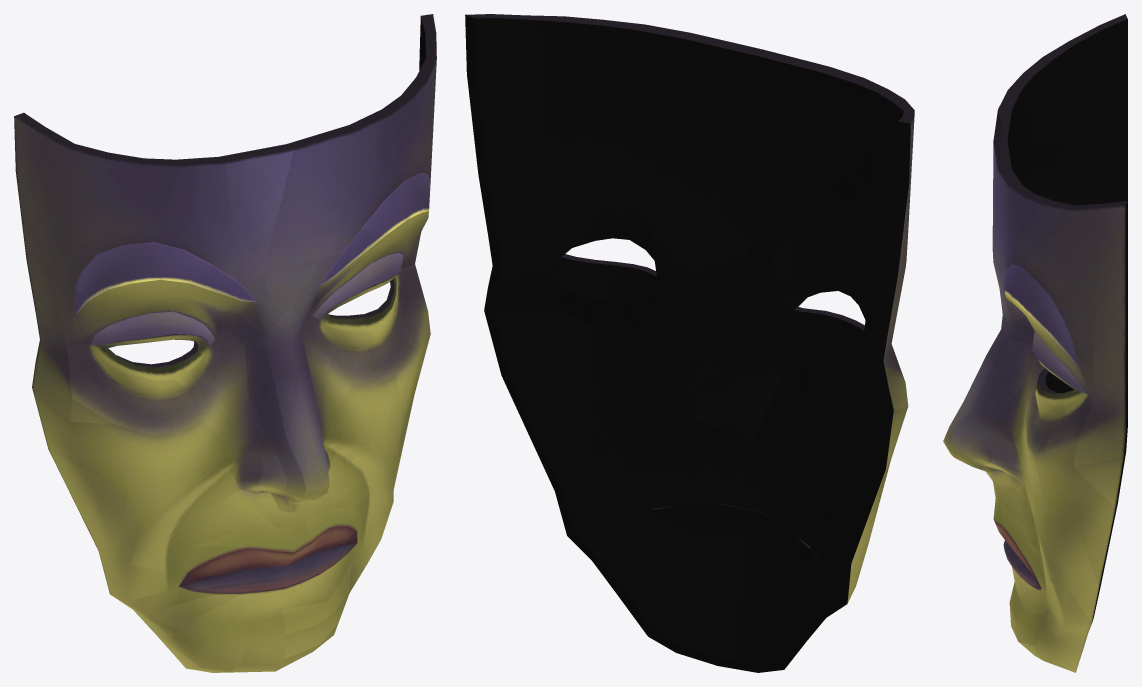
File: magic-mirror.glb
3 views of the same model, side by side, from view 1: azimuth 30°, elevation 25°; view 2: azimuth 150°, elevation 25°; view 3: azimuth 270°, elevation 25° (orthographic). The views are drawn at different scales.
Visible parts, largest first — view 1: Object_2, Object_3; view 2: Object_3, Object_2; view 3: Object_2, Object_3.
Part boxes in pixels (box(x1,y1,x2,y2)): Object_2: box(14, 14, 436, 672); Object_3: box(75, 16, 430, 346); Object_3: box(475, 18, 903, 663); Object_2: box(465, 14, 914, 672); Object_2: box(943, 14, 1127, 672); Object_3: box(1003, 19, 1127, 394).
Bounding box in the file's own units: 2.77 × 3.68 × 1.13.
2 materials, 2 textured.
